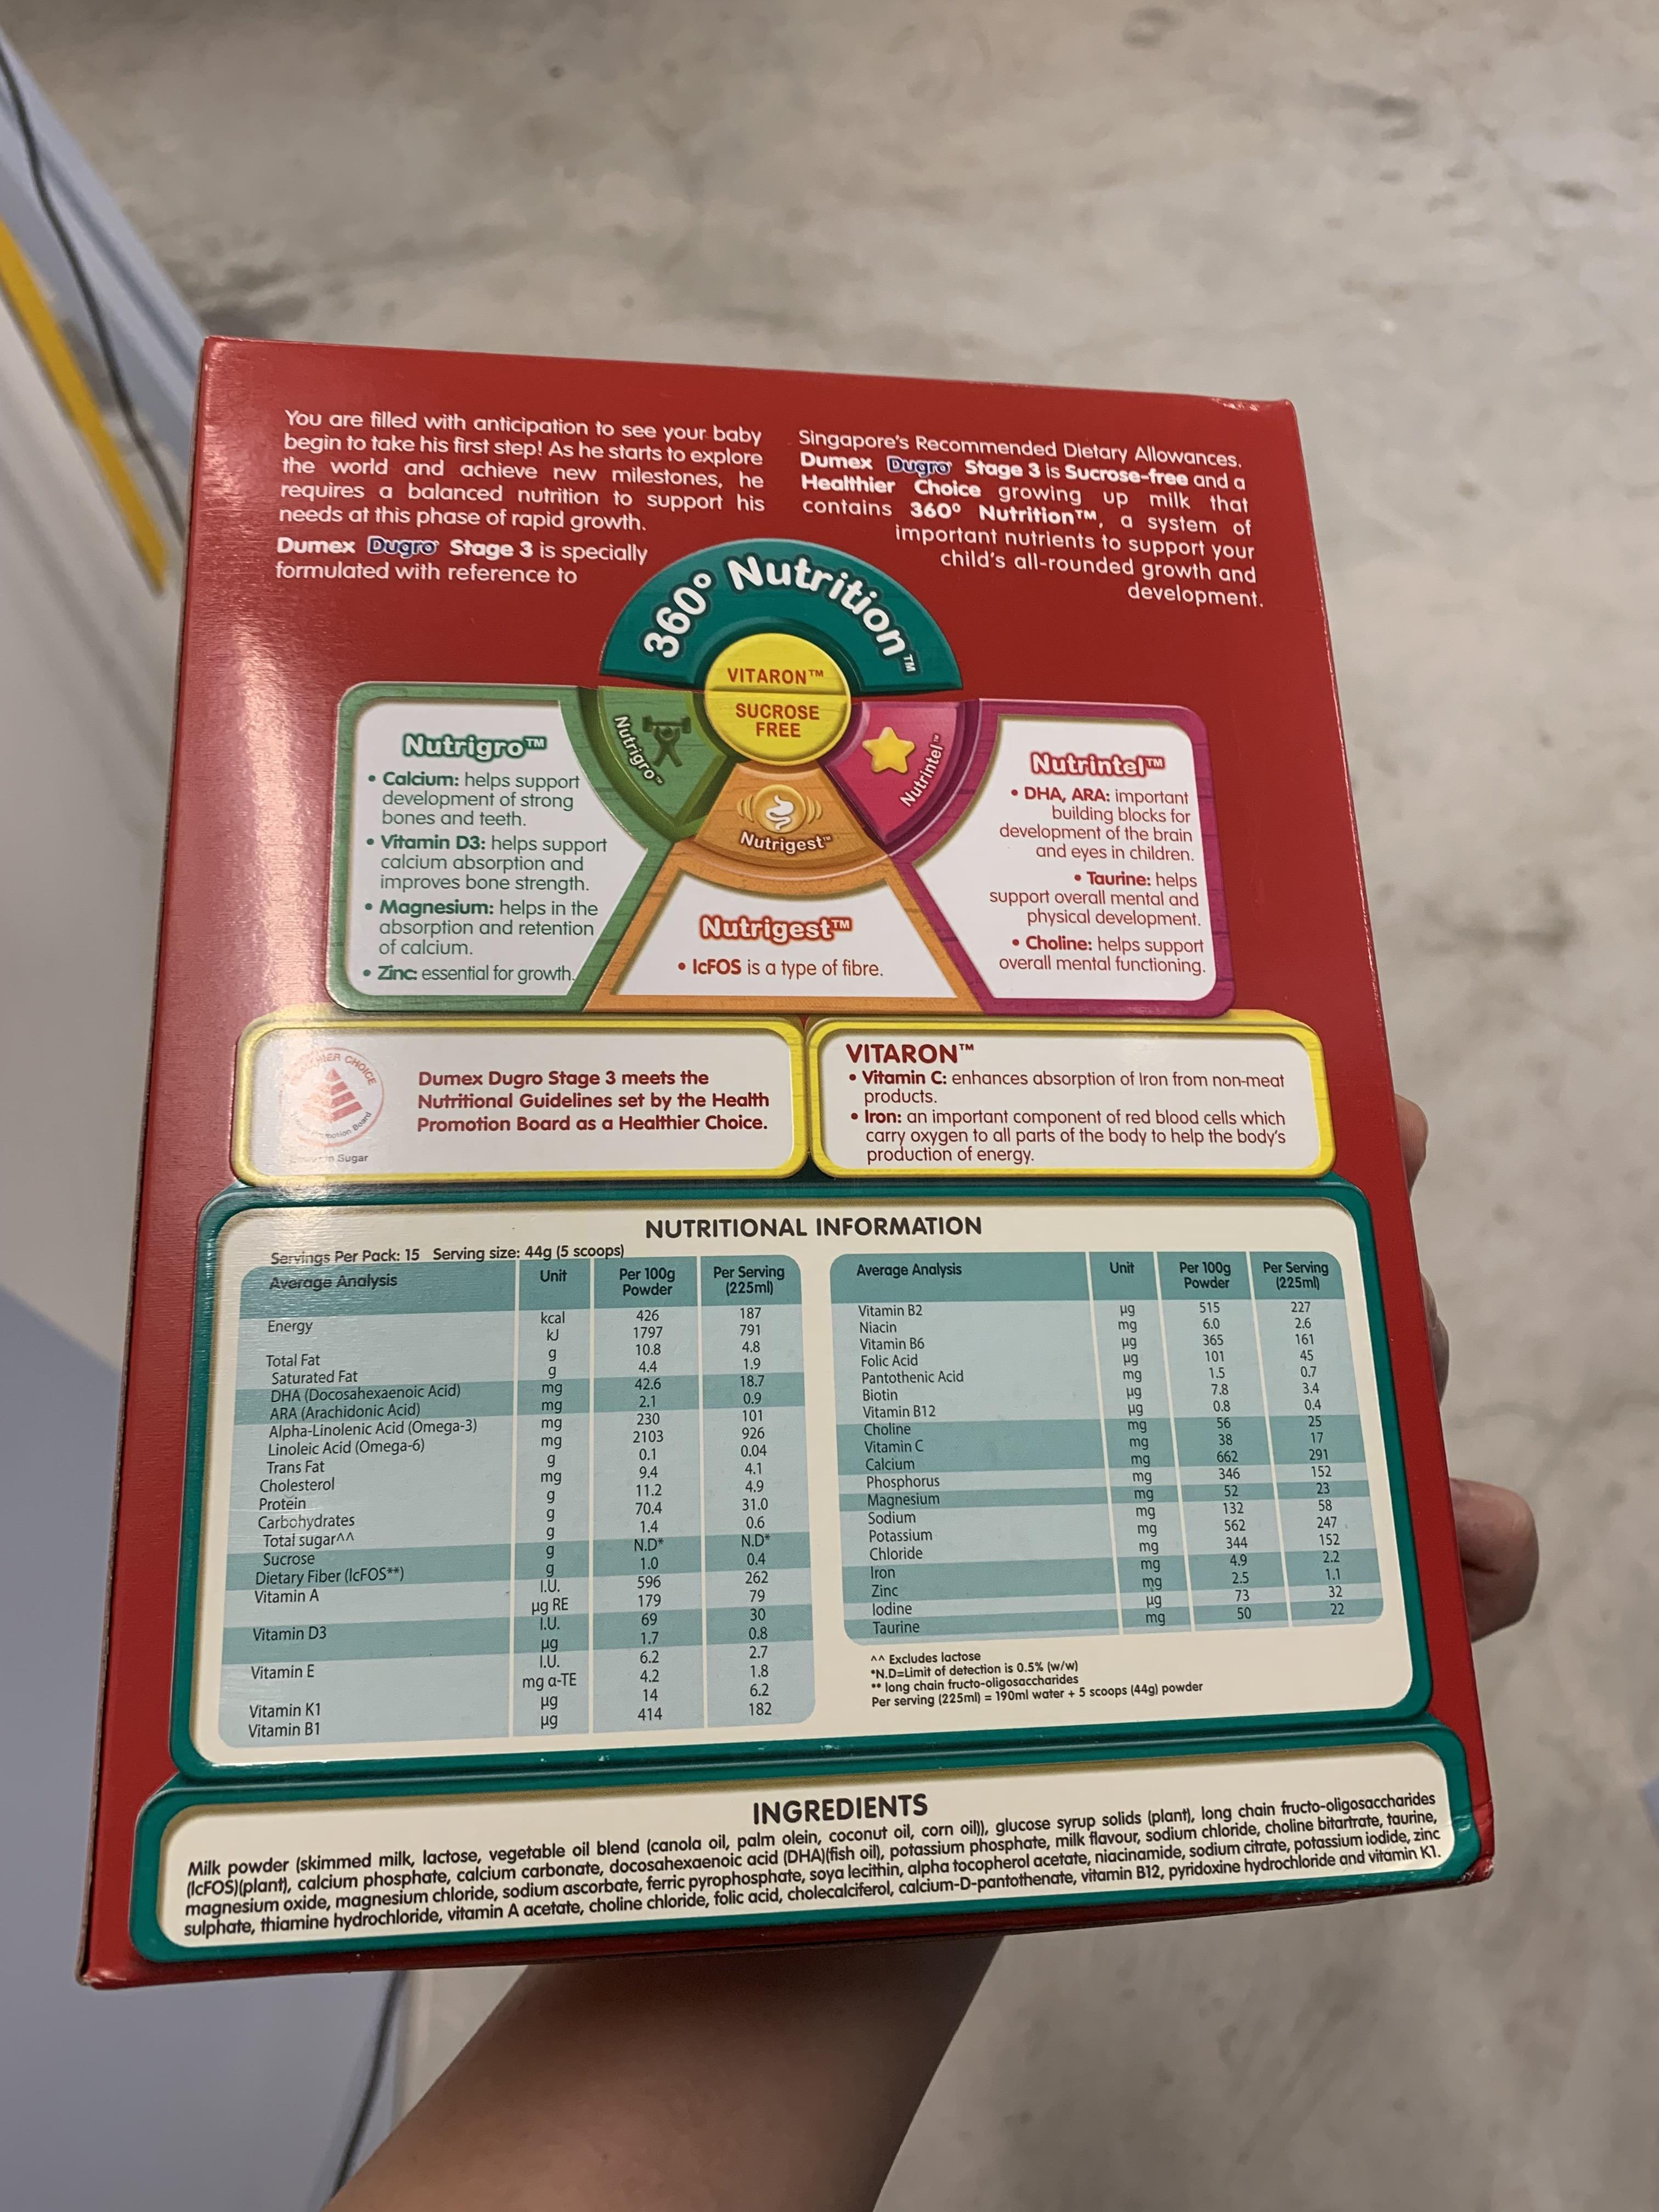object_name: (242, 352, 1405, 1886)
